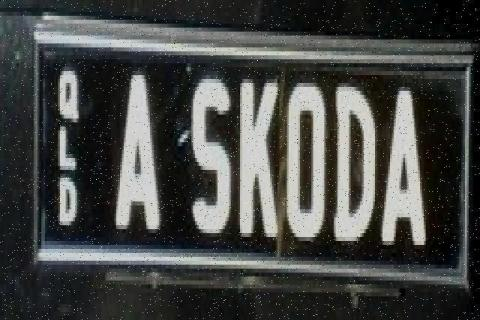LicensePlate: (34, 29, 465, 271)
